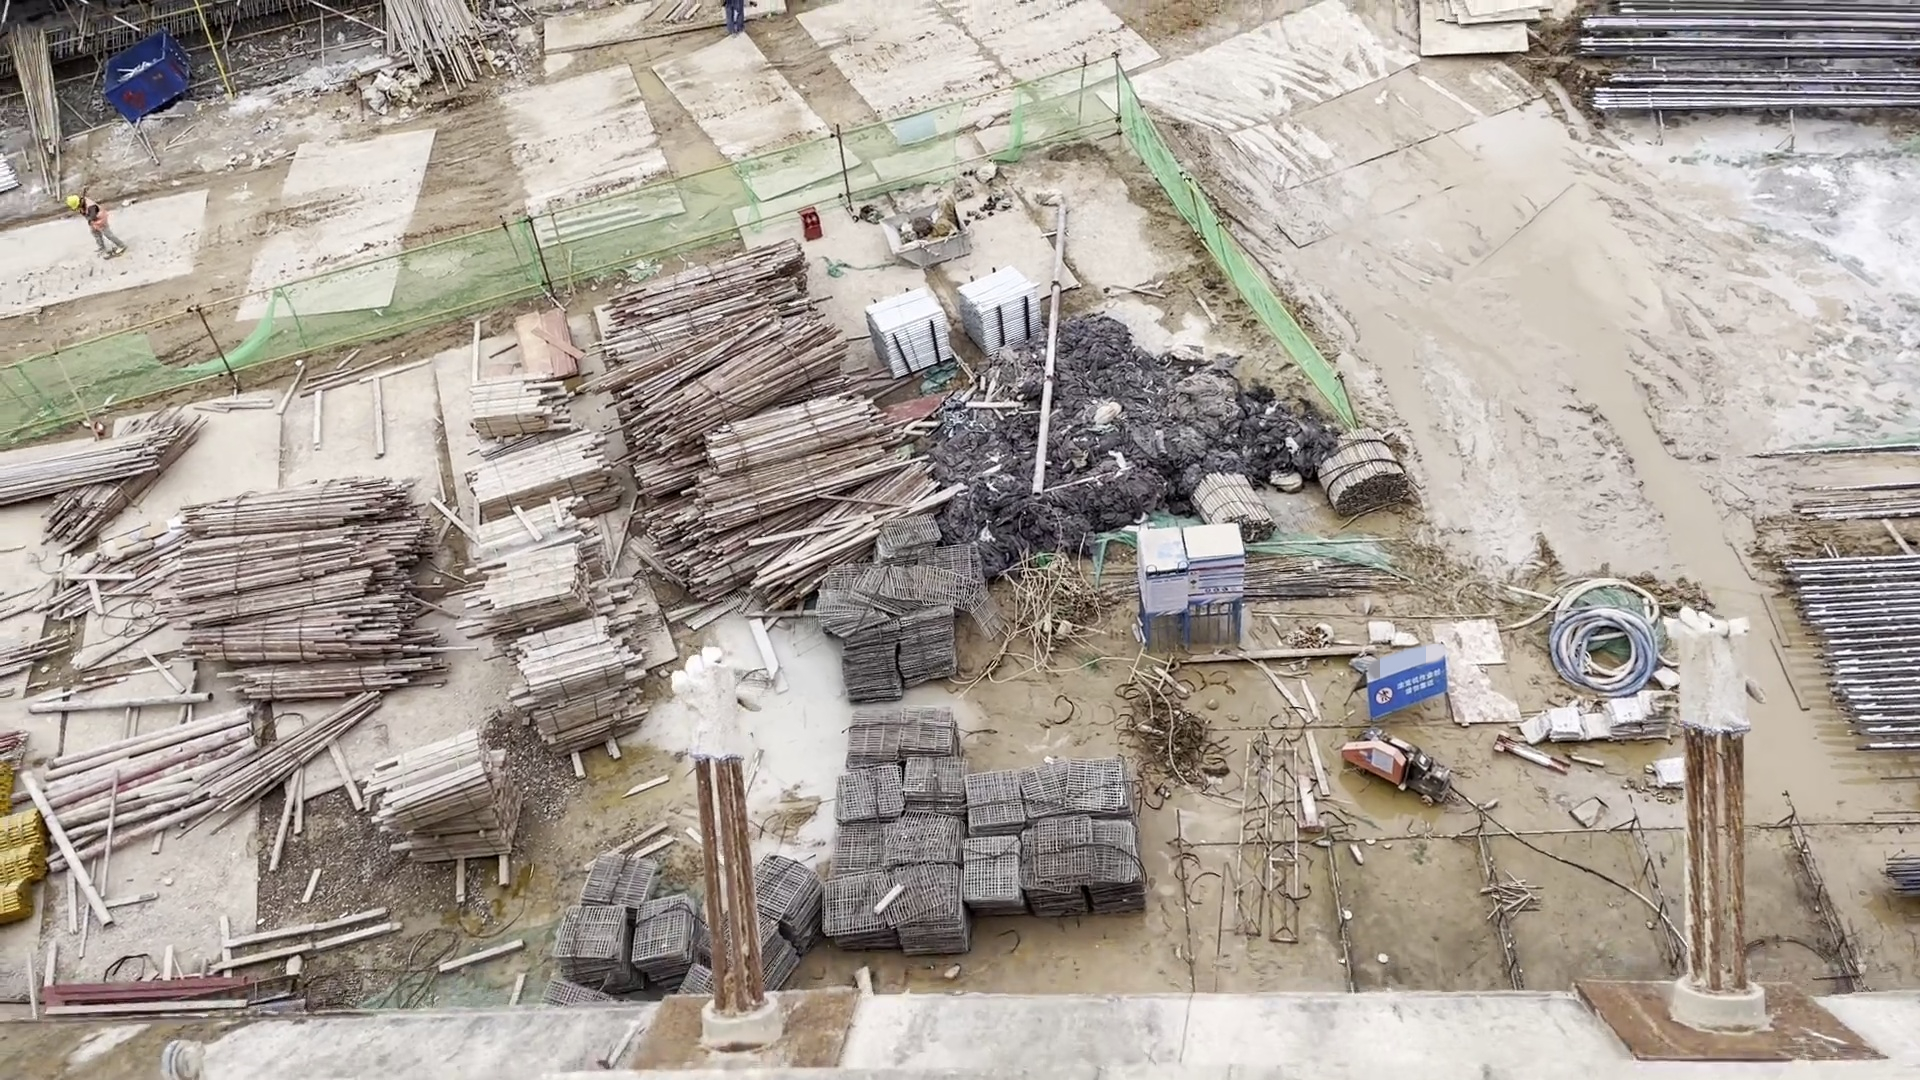helmet: (63, 194, 83, 211)
person: (62, 193, 133, 256)
scaffold: (1314, 425, 1410, 520), (864, 288, 953, 379), (953, 264, 1046, 348), (1191, 467, 1280, 538)
vest: (84, 201, 109, 227)
wood: (605, 264, 888, 579), (463, 379, 609, 737), (374, 750, 535, 867)
